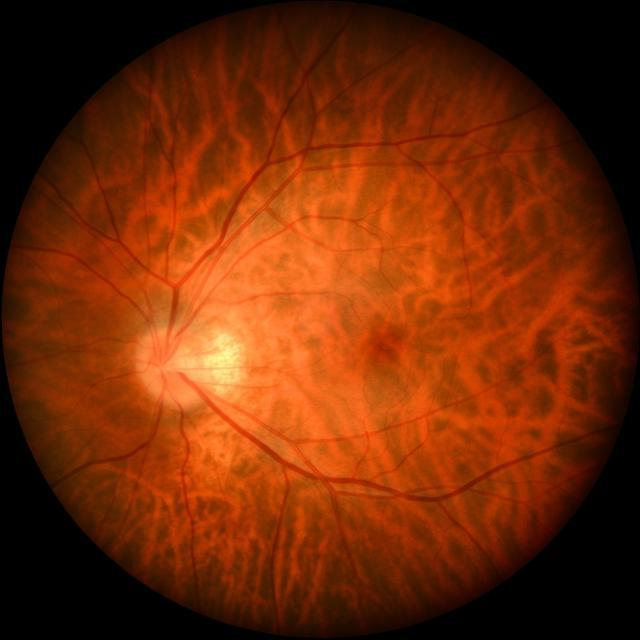OC: (156, 350, 183, 380)
OD: (132, 325, 209, 408)
